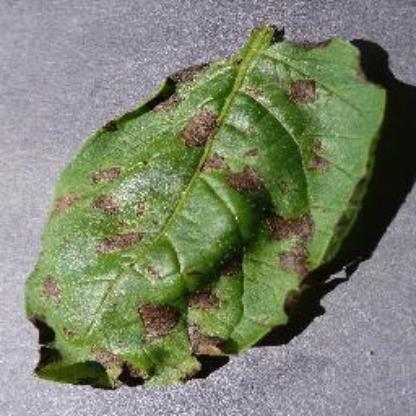Early-Blight: (26, 23, 398, 395)
